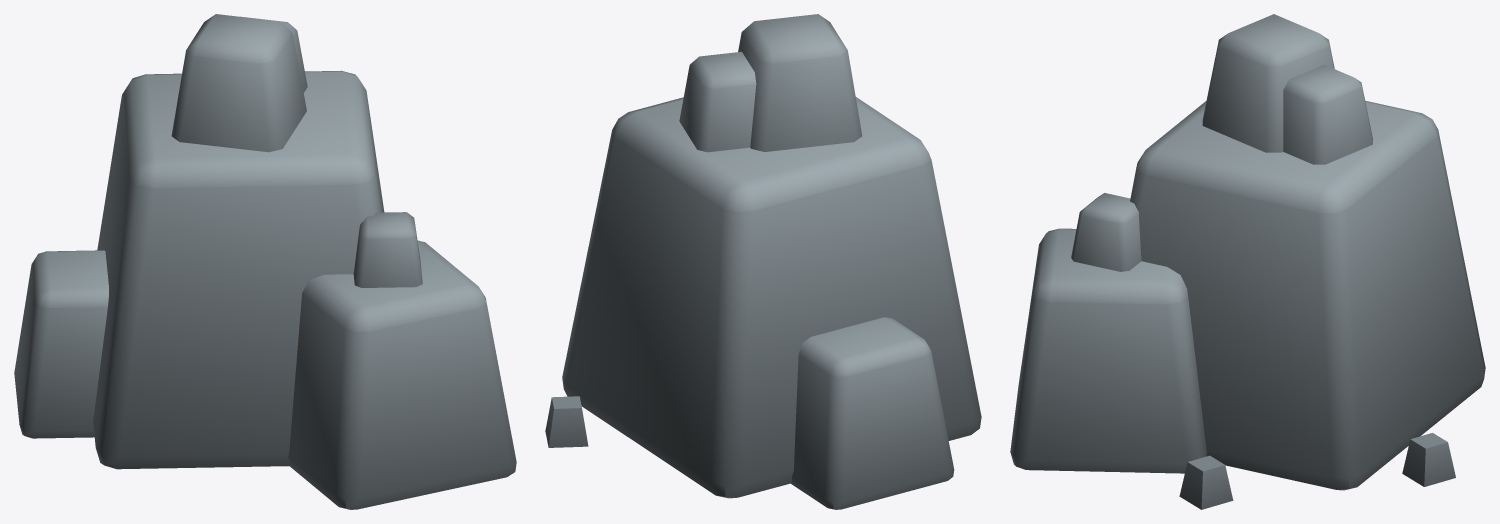
File: rock-2-e.glb
3 renders of one model, left to right at view 1: azimuth 30°, elevation 25°; view 2: azimuth 150°, elevation 25°; view 3: azimuth 270°, elevation 25°, orthographic. The views are drawn at different scales.
Parts seen in each view (by area): view 1: Rock_2_E_Color1; view 2: Rock_2_E_Color1; view 3: Rock_2_E_Color1.
Boxes of the visible parts, x1,y1,x2,y2 form: Rock_2_E_Color1: [14, 14, 516, 509]; Rock_2_E_Color1: [545, 14, 981, 509]; Rock_2_E_Color1: [1010, 14, 1485, 509].
Size of the model in its own units: 3.17 by 2.86 by 3.31.
Materials: 1 (1 with a texture image).
